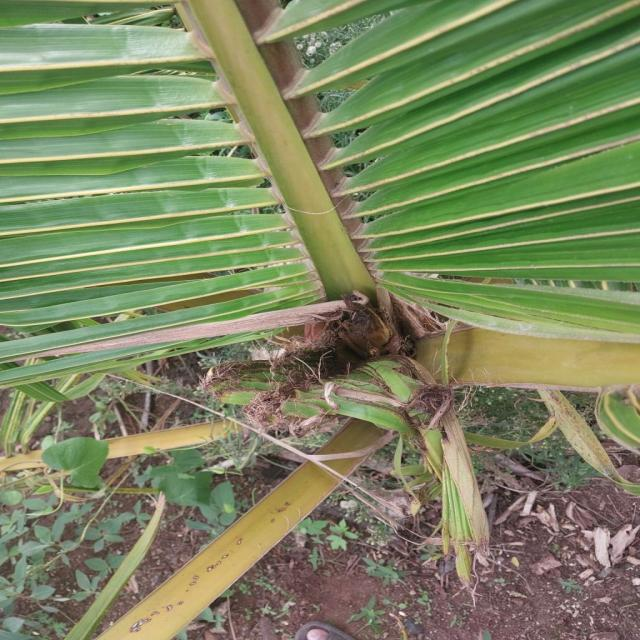bud rot: (202, 295, 520, 581)
